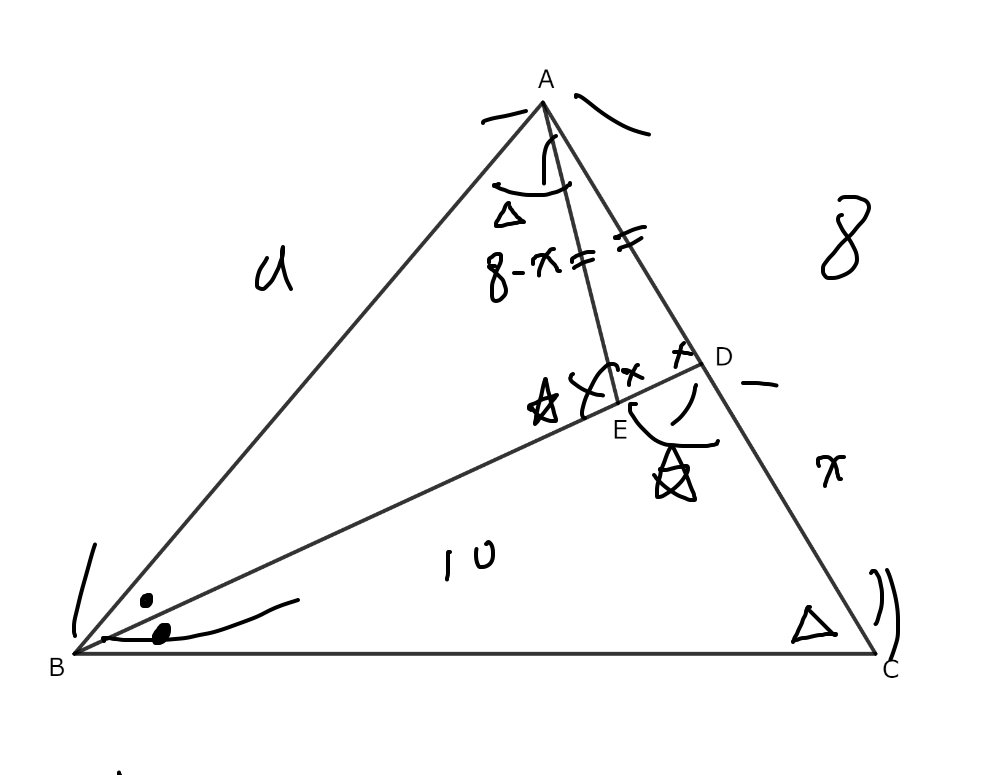Angle_CurveSline: (565, 358, 610, 420)
Angle_Point: (149, 617, 176, 647), (131, 588, 157, 612)
Angle_x: (661, 330, 690, 367), (621, 359, 651, 384)
Edge_Dline: (610, 218, 649, 264), (568, 244, 600, 275)
